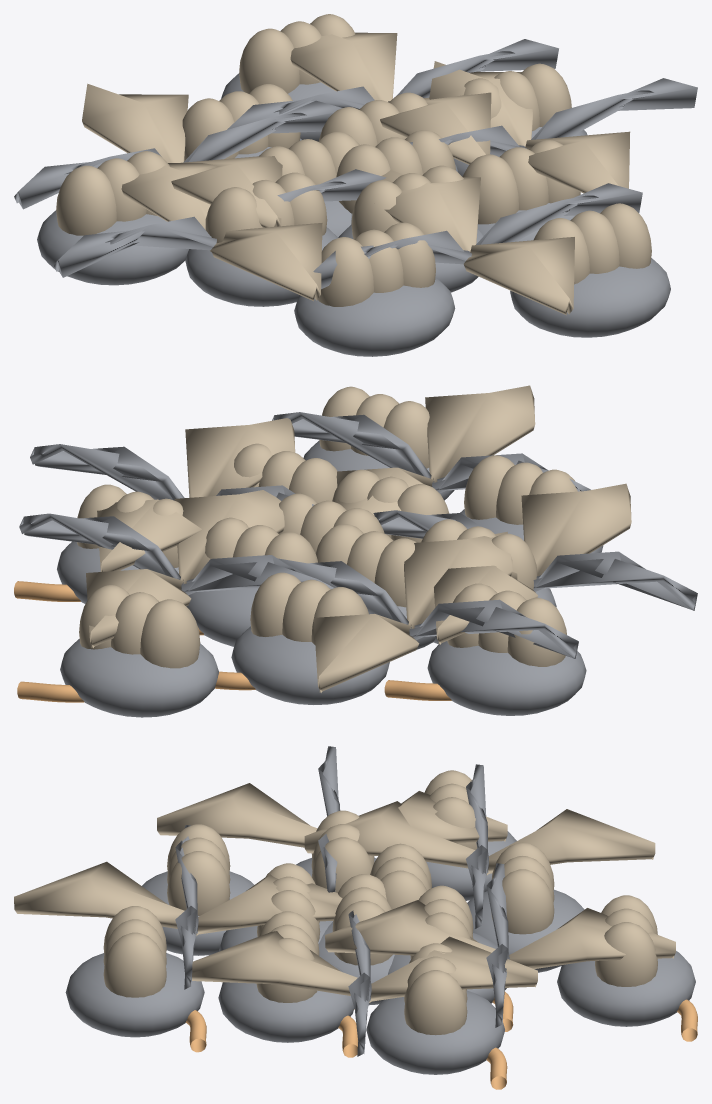
The model's file is bio_acid_mat_15_near.glb.
3 renders of one model, top to bottom at view 1: azimuth 30°, elevation 25°; view 2: azimuth 150°, elevation 25°; view 3: azimuth 270°, elevation 25°, orthographic. The views are drawn at different scales.
Parts seen in each view (by area): view 1: Low buttress leaf.009, Low buttress leaf.013, Low buttress leaf.005, Low buttress leaf.017, Microbial cushion.007, Low buttress leaf.001, Microbial cushion.010, Reaction vesicle.021, Reaction vesicle.027, Low buttress leaf.016, Reaction vesicle.030, Low buttress leaf.008 (+17 smaller); view 2: Low buttress leaf.005, Low buttress leaf.017, Low buttress leaf.001, Low buttress leaf.009, Microbial cushion.011, Microbial cushion.009, Low buttress leaf.013, Low buttress leaf.012, Reaction vesicle.033, Low buttress leaf.004, Microbial cushion.006, Low buttress leaf.016 (+21 smaller); view 3: Low buttress leaf.001, Low buttress leaf.009, Low buttress leaf.005, Low buttress leaf.013, Low buttress leaf.017, Microbial cushion.008, Microbial cushion.010, Microbial cushion.011, Microbial cushion.005, Reaction vesicle.030, Reaction vesicle.024, Reaction vesicle.033 (+24 smaller).
Boxes of the visible parts, x1,y1,x2,y2 form: Low buttress leaf.009: [381, 170, 574, 315]; Low buttress leaf.013: [290, 32, 491, 164]; Low buttress leaf.005: [82, 83, 282, 227]; Low buttress leaf.017: [121, 152, 322, 301]; Microbial cushion.007: [294, 277, 455, 356]; Low buttress leaf.001: [429, 61, 630, 193]; Microbial cushion.010: [510, 258, 670, 337]; Reaction vesicle.021: [317, 222, 435, 306]; Reaction vesicle.027: [56, 151, 169, 235]; Low buttress leaf.016: [54, 169, 386, 277]; Reaction vesicle.030: [533, 203, 651, 284]; Low buttress leaf.008: [313, 183, 642, 289]; Low buttress leaf.005: [314, 531, 512, 692]; Low buttress leaf.017: [434, 483, 631, 644]; Low buttress leaf.001: [97, 418, 295, 571]; Low buttress leaf.009: [336, 385, 535, 515]; Microbial cushion.011: [60, 639, 218, 717]; Microbial cushion.009: [427, 641, 586, 715]; Low buttress leaf.013: [86, 490, 284, 647]; Low buttress leaf.012: [19, 513, 334, 595]; Reaction vesicle.033: [79, 585, 200, 668]; Low buttress leaf.004: [278, 558, 578, 658]; Microbial cushion.006: [231, 626, 389, 704]; Low buttress leaf.016: [373, 510, 697, 610]; Low buttress leaf.001: [192, 931, 537, 1002]; Low buttress leaf.009: [14, 861, 342, 935]; Low buttress leaf.005: [304, 801, 655, 875]; Low buttress leaf.013: [325, 900, 675, 968]; Low buttress leaf.017: [157, 783, 507, 847]; Microbial cushion.008: [366, 990, 504, 1074]; Microbial cushion.010: [65, 953, 204, 1037]; Microbial cushion.011: [557, 951, 695, 1026]; Microbial cushion.005: [218, 961, 354, 1042]; Reaction vesicle.030: [103, 906, 166, 997]; Reaction vesicle.024: [404, 943, 467, 1035]; Reaction vesicle.033: [595, 895, 657, 986].
Bounding box in the file's own units: 2.22 × 0.38 × 2.16.
